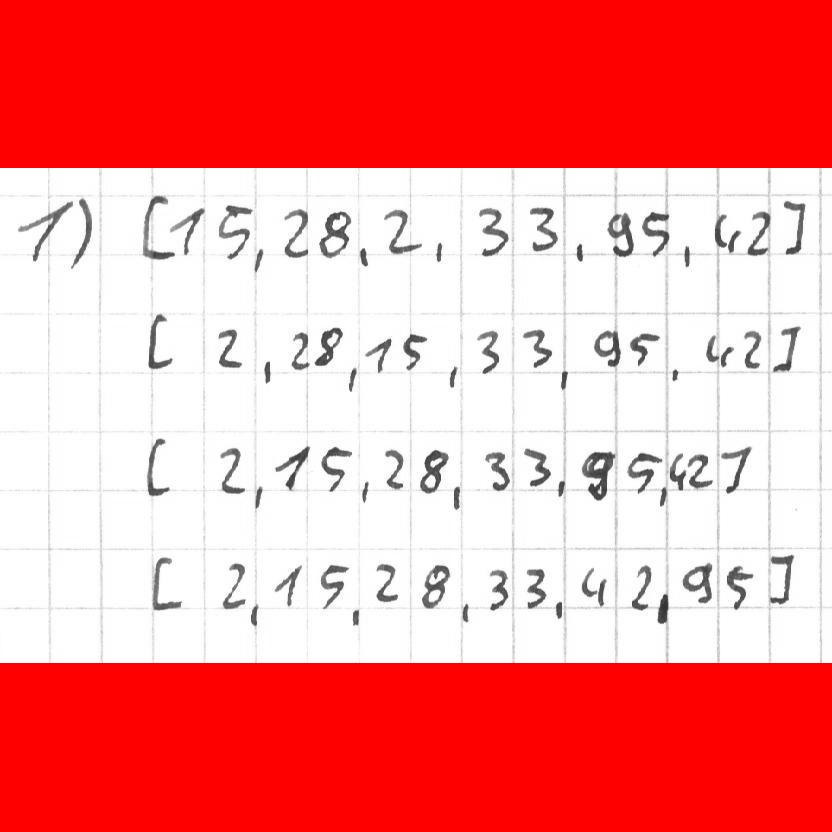Char: (15, 193, 88, 268), (137, 192, 174, 262), (382, 203, 424, 259), (216, 202, 254, 263), (476, 202, 514, 260), (637, 205, 676, 261), (67, 195, 95, 272), (141, 311, 174, 372), (148, 556, 185, 610), (216, 444, 253, 497), (141, 435, 172, 498), (271, 560, 309, 611), (418, 559, 454, 612), (718, 442, 753, 496), (168, 204, 203, 258), (764, 549, 796, 608), (271, 443, 310, 491), (517, 324, 554, 374), (317, 556, 349, 613), (580, 447, 614, 500), (318, 210, 354, 260), (722, 560, 756, 612), (523, 206, 559, 255), (604, 204, 636, 259), (767, 324, 804, 371), (280, 203, 310, 260), (219, 556, 249, 613), (470, 324, 503, 375), (321, 444, 356, 492), (779, 195, 806, 257), (212, 325, 246, 373), (679, 560, 713, 608), (670, 450, 711, 489), (578, 563, 612, 610), (417, 448, 451, 494), (592, 326, 626, 371), (626, 446, 657, 495), (627, 327, 662, 370), (744, 209, 772, 259), (372, 560, 402, 606), (312, 324, 342, 370), (628, 562, 654, 614), (709, 211, 738, 257), (702, 334, 734, 374), (521, 447, 551, 488), (381, 445, 406, 493), (484, 449, 511, 492), (364, 335, 390, 377), (741, 326, 765, 370), (401, 331, 425, 375), (487, 567, 509, 613), (292, 325, 312, 373), (525, 567, 547, 609), (654, 590, 671, 628), (443, 360, 462, 392), (570, 236, 587, 265), (678, 239, 694, 269), (343, 363, 359, 392), (556, 364, 571, 394), (431, 236, 446, 266), (259, 357, 275, 385), (358, 475, 372, 504), (349, 602, 363, 630), (252, 246, 266, 273), (668, 362, 684, 385), (356, 245, 372, 268), (555, 475, 569, 501), (459, 600, 473, 626), (657, 484, 670, 510), (249, 601, 261, 626), (451, 484, 461, 511), (254, 484, 263, 511), (552, 599, 563, 619)
